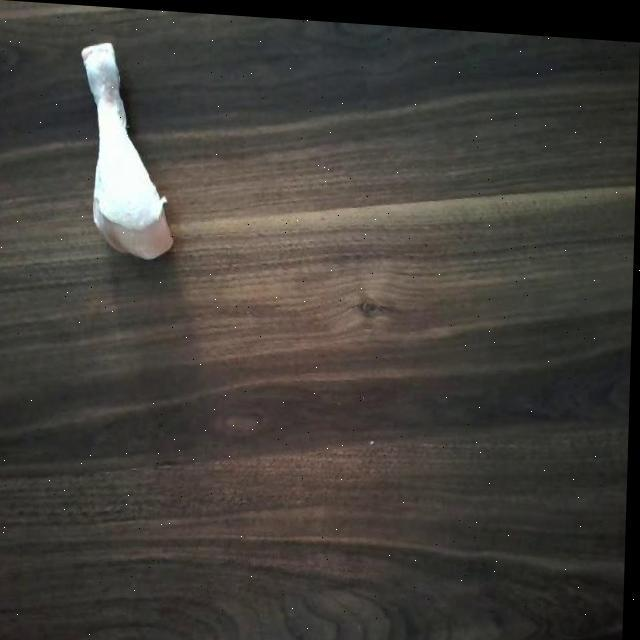leg: (72, 35, 180, 263)
